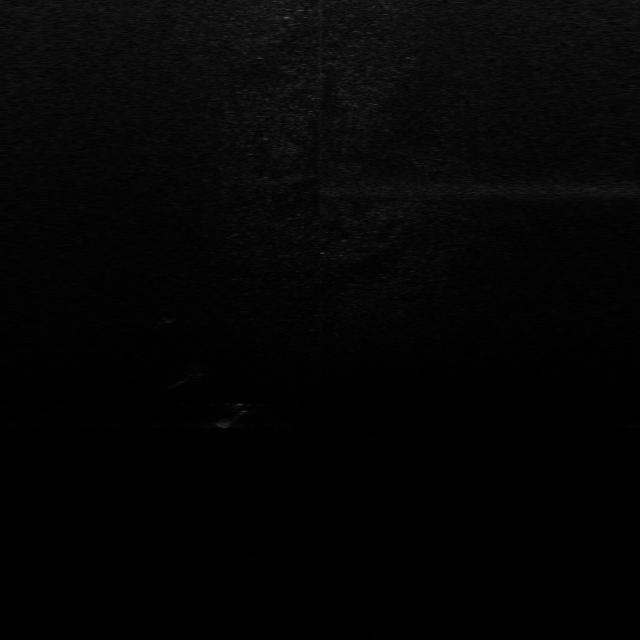ball: (180, 362, 210, 381)
circle cage: (158, 306, 183, 323)
tyre: (218, 402, 250, 428)
